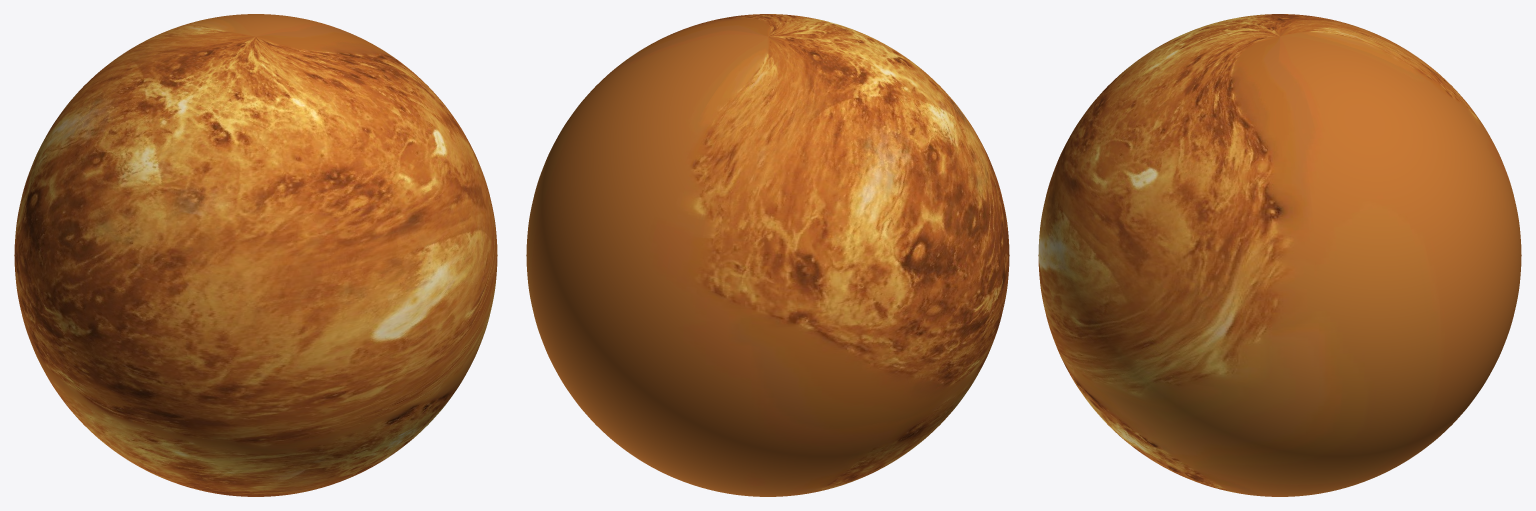
The model's file is venus.gltf.
3 views of the same model, side by side, from view 1: azimuth 30°, elevation 25°; view 2: azimuth 150°, elevation 25°; view 3: azimuth 270°, elevation 25° (orthographic).
Parts seen in each view (by area): view 1: node_id32; view 2: node_id32; view 3: node_id32.
Boxes of the visible parts, box(x1,y1,x2,y2) form: node_id32: box(14, 14, 497, 496); node_id32: box(526, 14, 1009, 496); node_id32: box(1038, 14, 1521, 496).
Bounding box in the file's own units: 0.512 × 0.512 × 0.512.
1 material, 1 textured.
